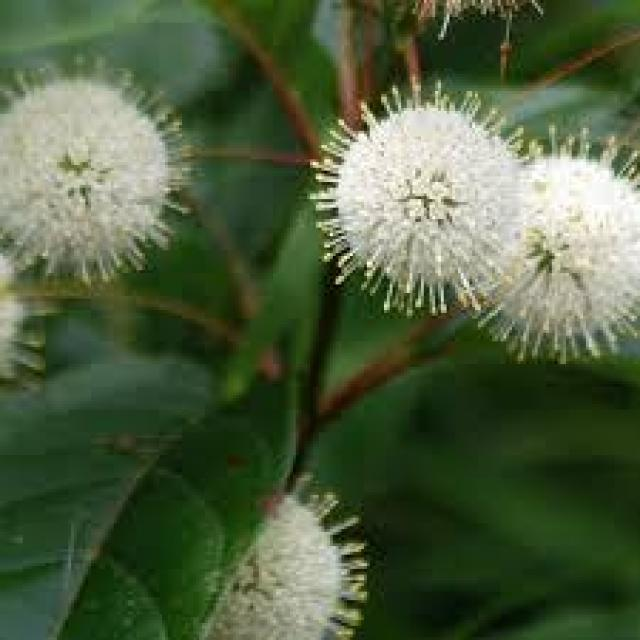organic waste: (432, 119, 638, 384), (301, 85, 515, 316), (9, 51, 196, 273), (159, 472, 381, 634)
